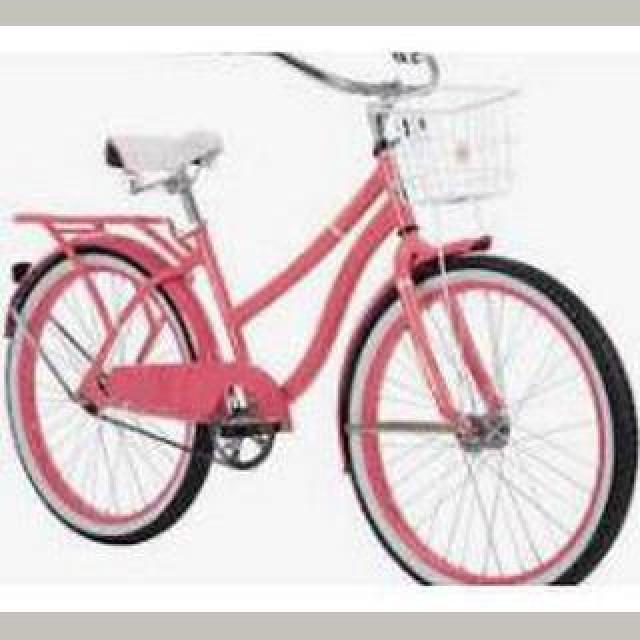Person: (0, 44, 640, 586)
